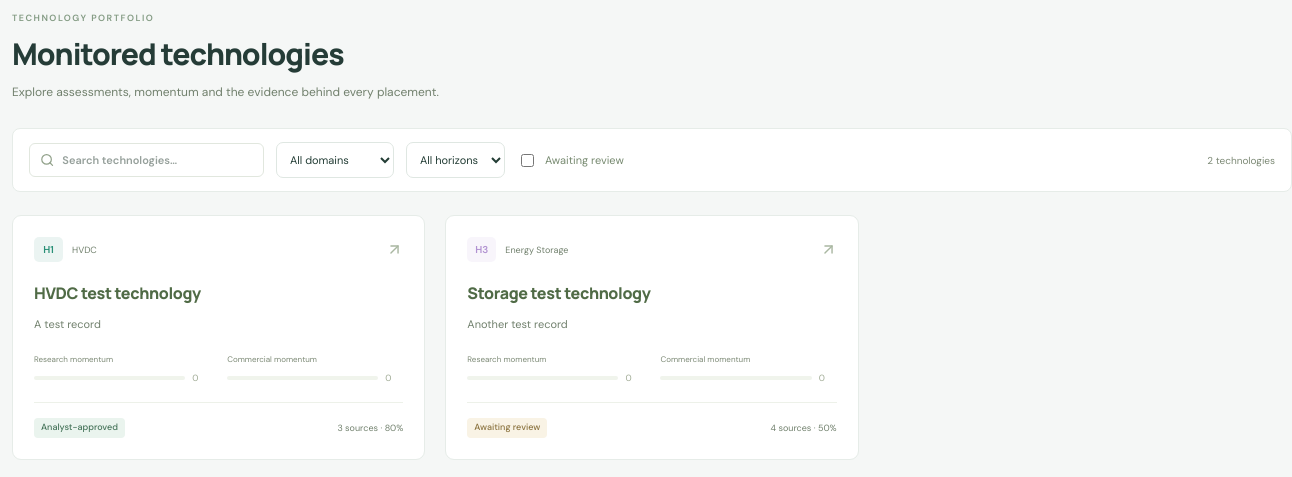
Test: technology portfolio filters › filters real cards by search and prevents viewer edit controls
The width and height of the screenshot is (1292, 477).
Type "Storage" into the field labelled "Search technologies…" at (158,160), box x1=62 y1=144 x2=253 y2=176
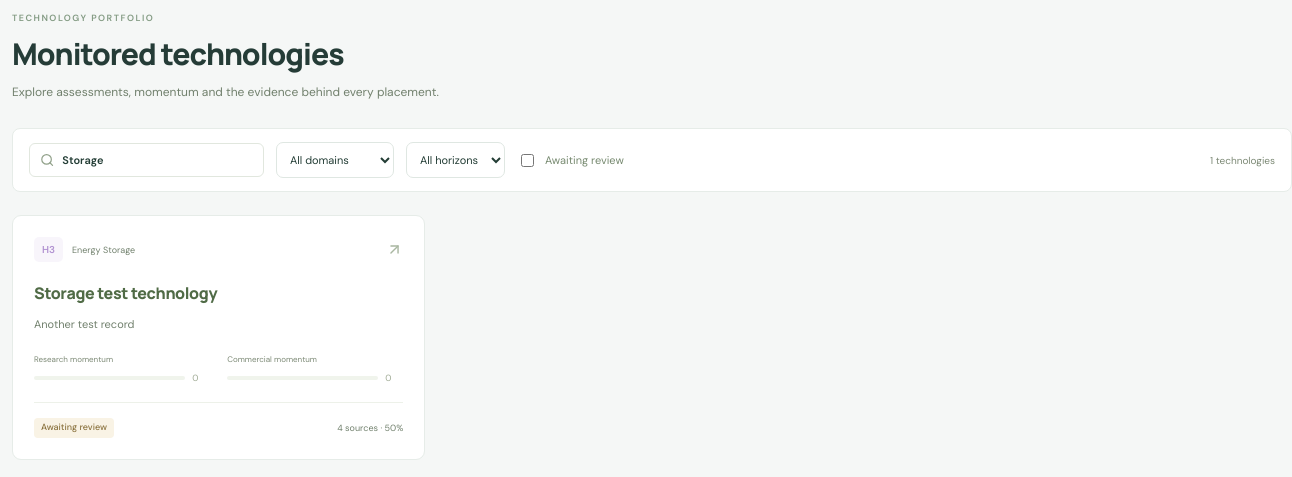
Expected: the heading "Storage test technology" is shown, x1=34 y1=282 x2=217 y2=304
Expected: the link "HVDC test technology" is gone
